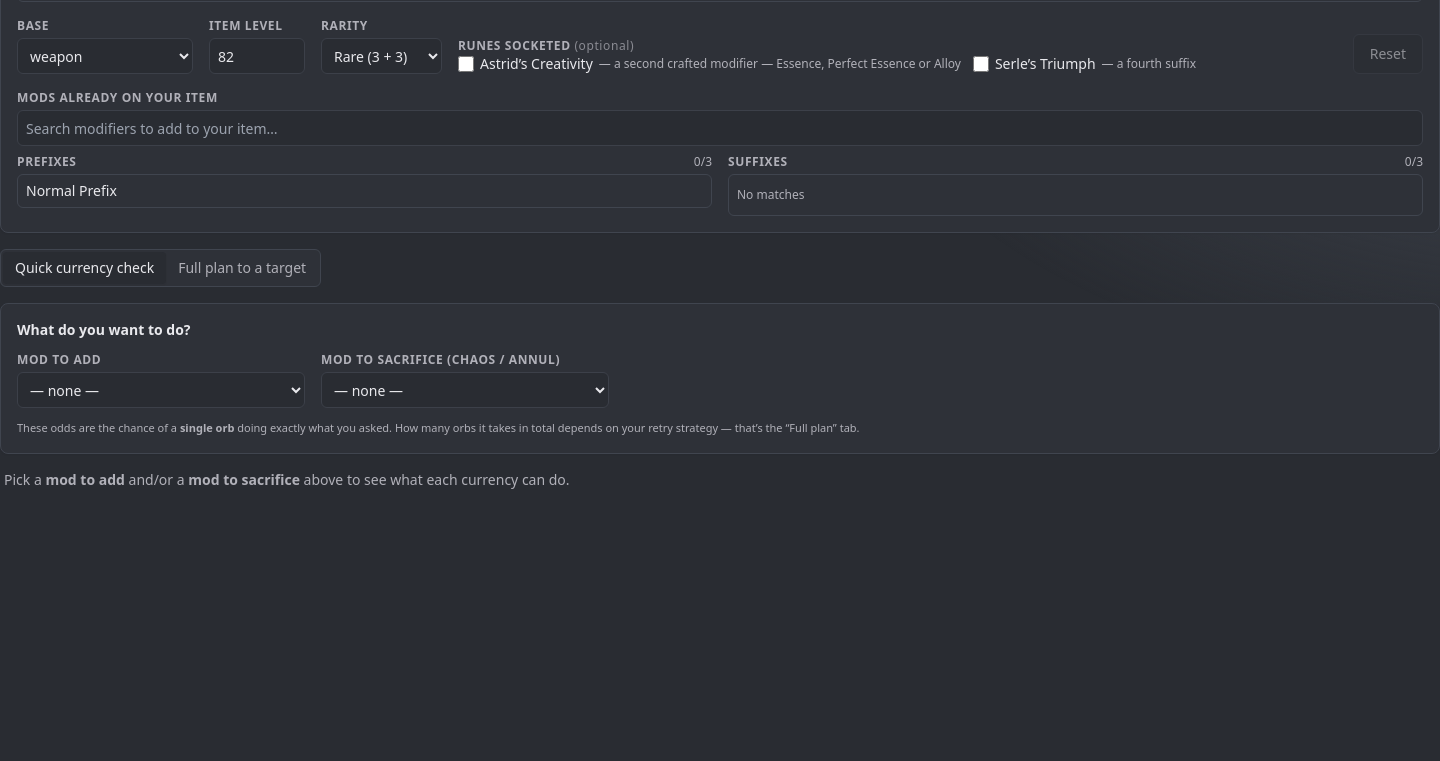
Scenario: ItemActions — a solve that fails because the site moved on › shows the reload notice, not a planner error
Expected: the field with placeholder "Search modifiers to add to your item…" is shown, [17, 110, 1423, 146]
Step 1. Click the button "Full plan to a target" → click(242, 268), box [166, 252, 318, 284]
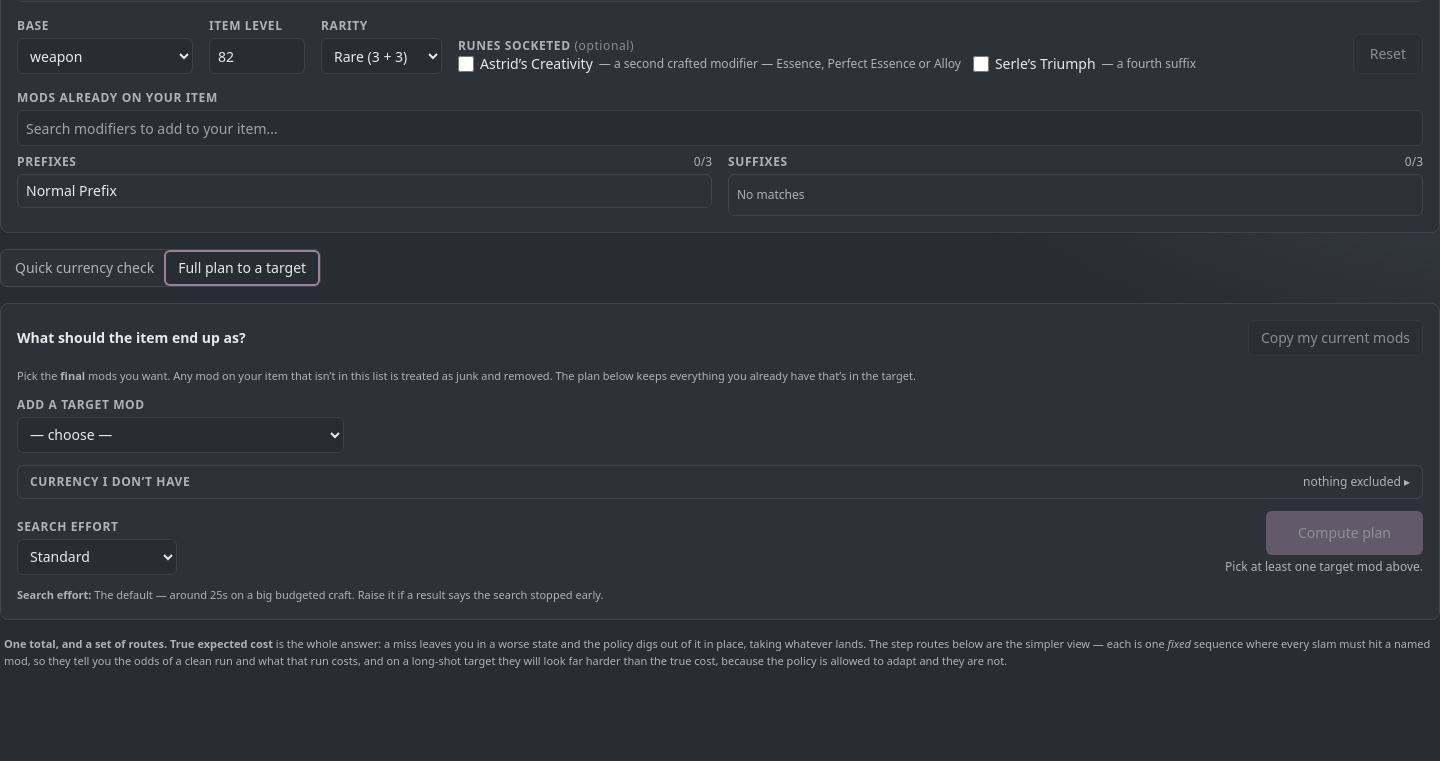
Step 2. Select "P · Normal Prefix" in the dropdown labelled "Add a target mod" → (180, 434), box [17, 416, 344, 452]
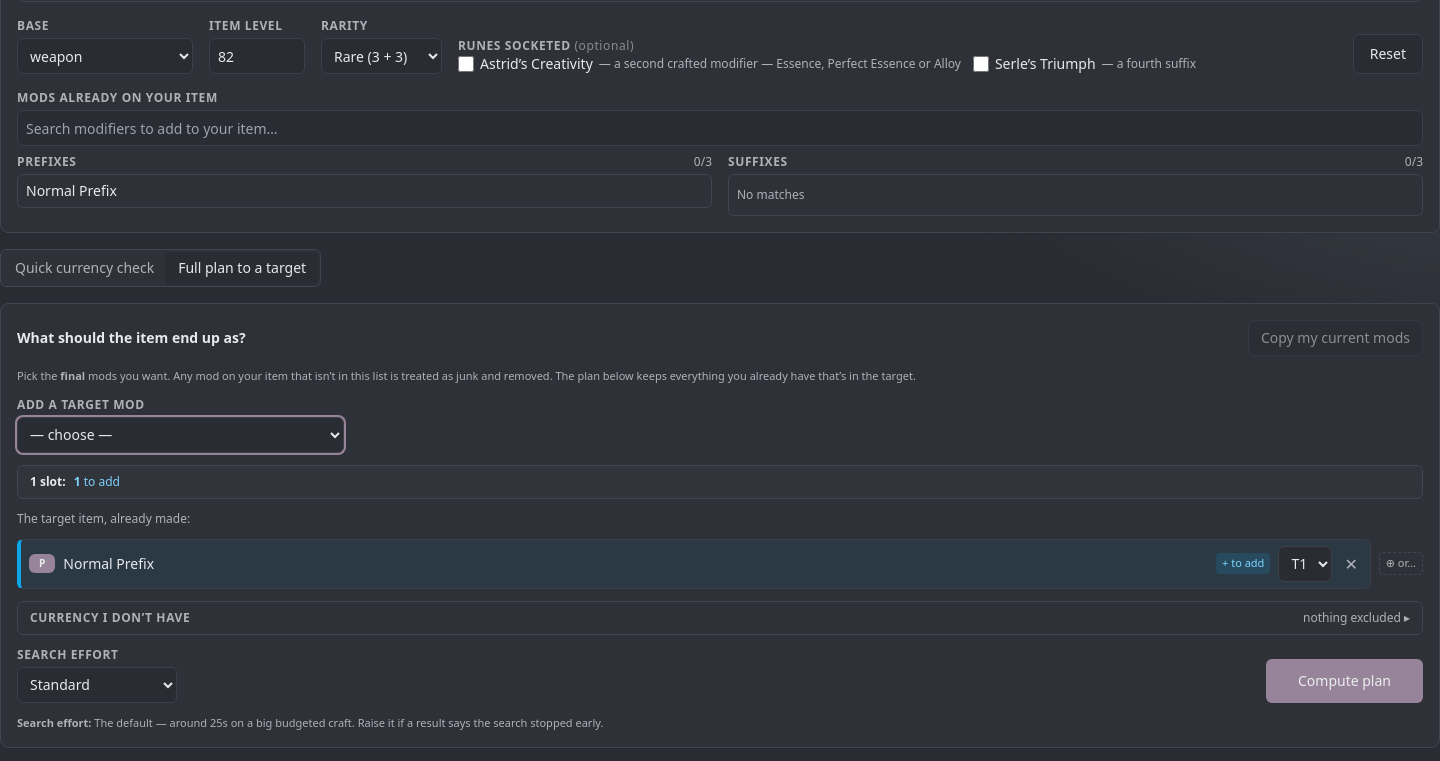
Step 3. Click the button "Compute plan" → click(1344, 680), box [1266, 658, 1423, 702]
(page scrolled)
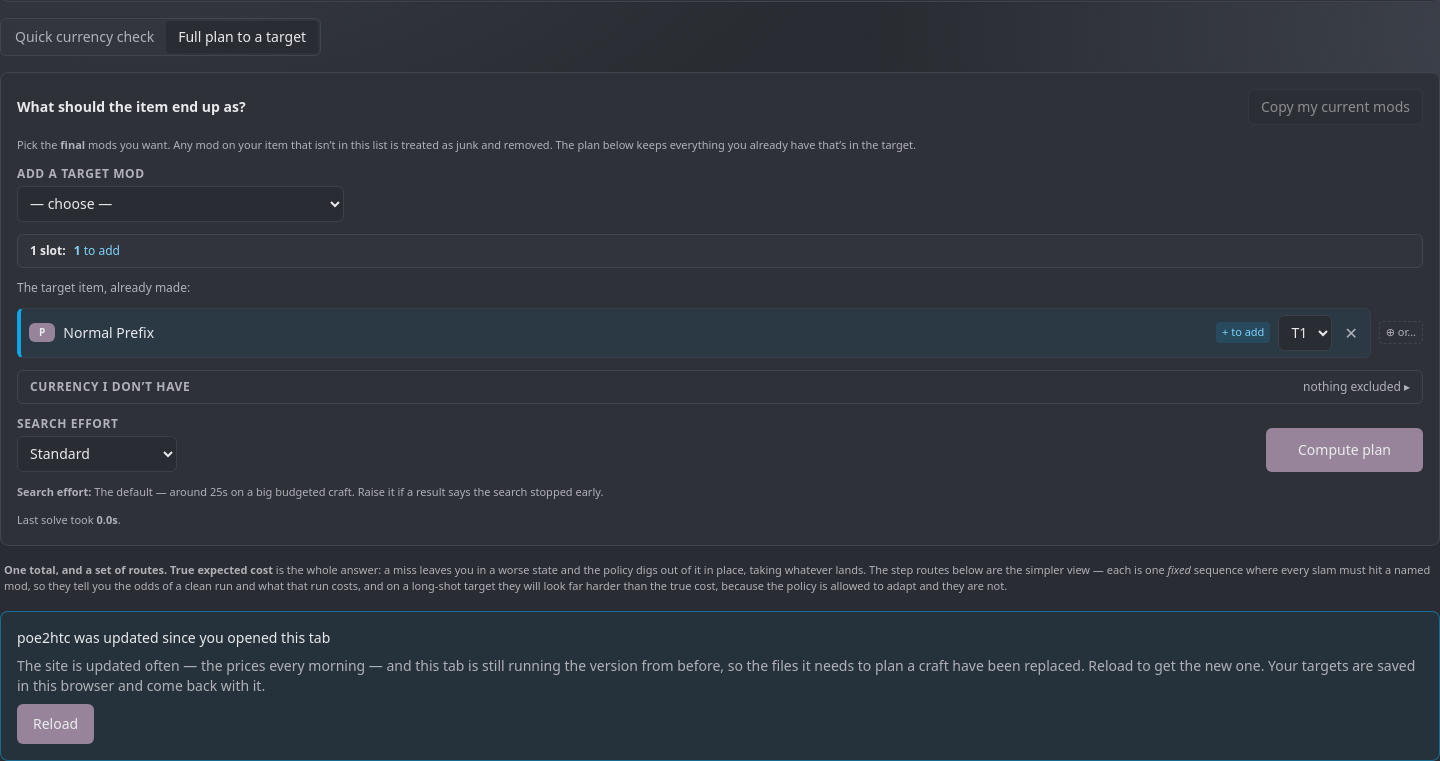
Expected: the text "poe2htc was updated since you opened this tab" is shown, [17, 628, 330, 646]
